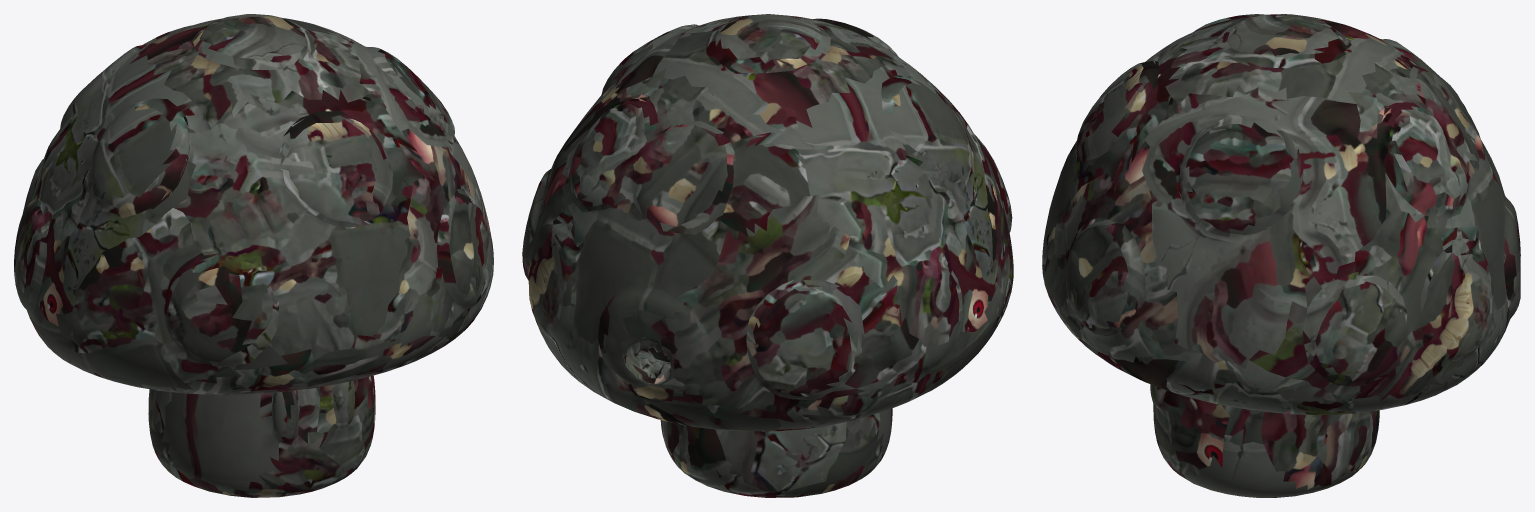
The model's file is Super_Mushroom.fbx.
3 renders of one model, left to right at view 1: azimuth 30°, elevation 25°; view 2: azimuth 150°, elevation 25°; view 3: azimuth 270°, elevation 25°, orthographic. The views are drawn at different scales.
Visible parts, largest first — view 1: tripo_node_808f0f8d; view 2: tripo_node_808f0f8d; view 3: tripo_node_808f0f8d.
Part boxes in pixels (x1=…): tripo_node_808f0f8d: x1=14, y1=14, x2=493, y2=497; tripo_node_808f0f8d: x1=522, y1=14, x2=1013, y2=497; tripo_node_808f0f8d: x1=1042, y1=14, x2=1520, y2=497.
Size of the model in its own units: 0.9743 by 0.9792 by 0.9739.
